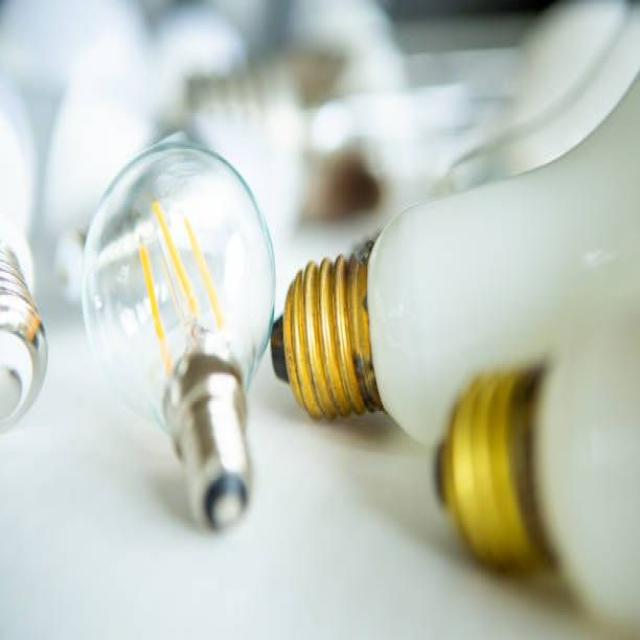electronic: (272, 66, 639, 626), (80, 132, 277, 530), (41, 36, 163, 301), (0, 216, 48, 433)
